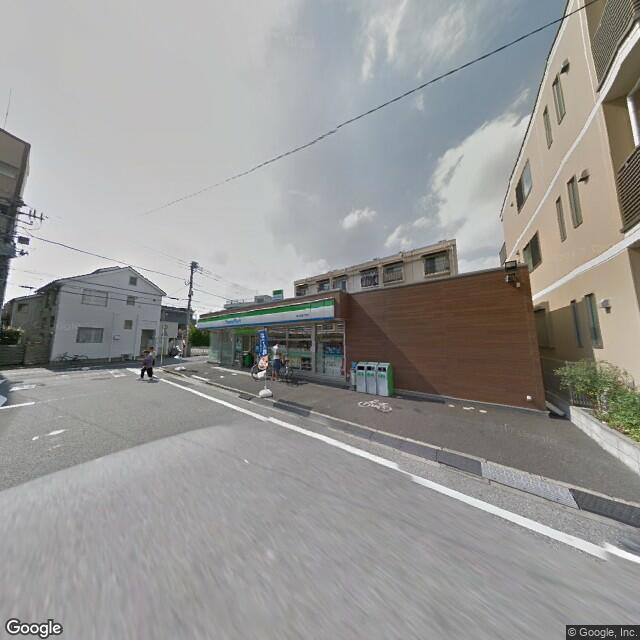family_mart: (191, 293, 337, 333)
